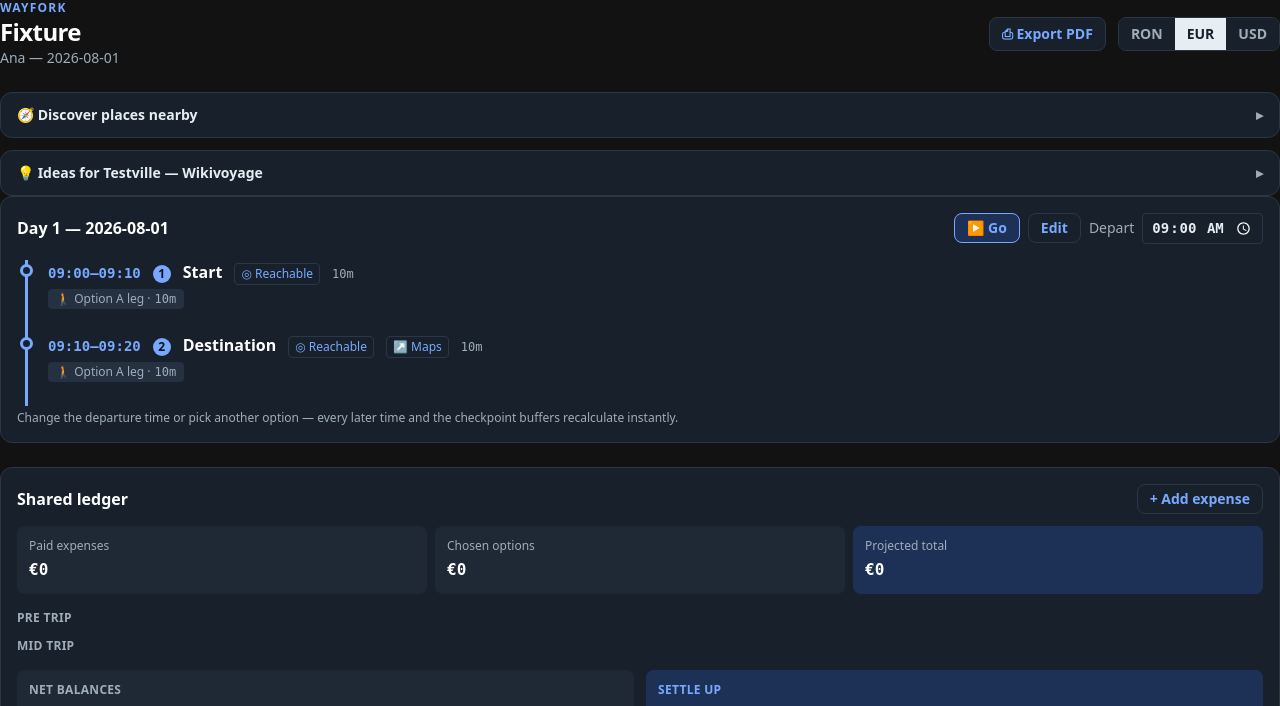
Test: TripView — 🚆 Transit option › offers a choice when there are several itineraries, each addable as an option
The image size is (1280, 706).
Step 1. Click the button "Edit" → [1054, 228], box [1028,213,1081,243]
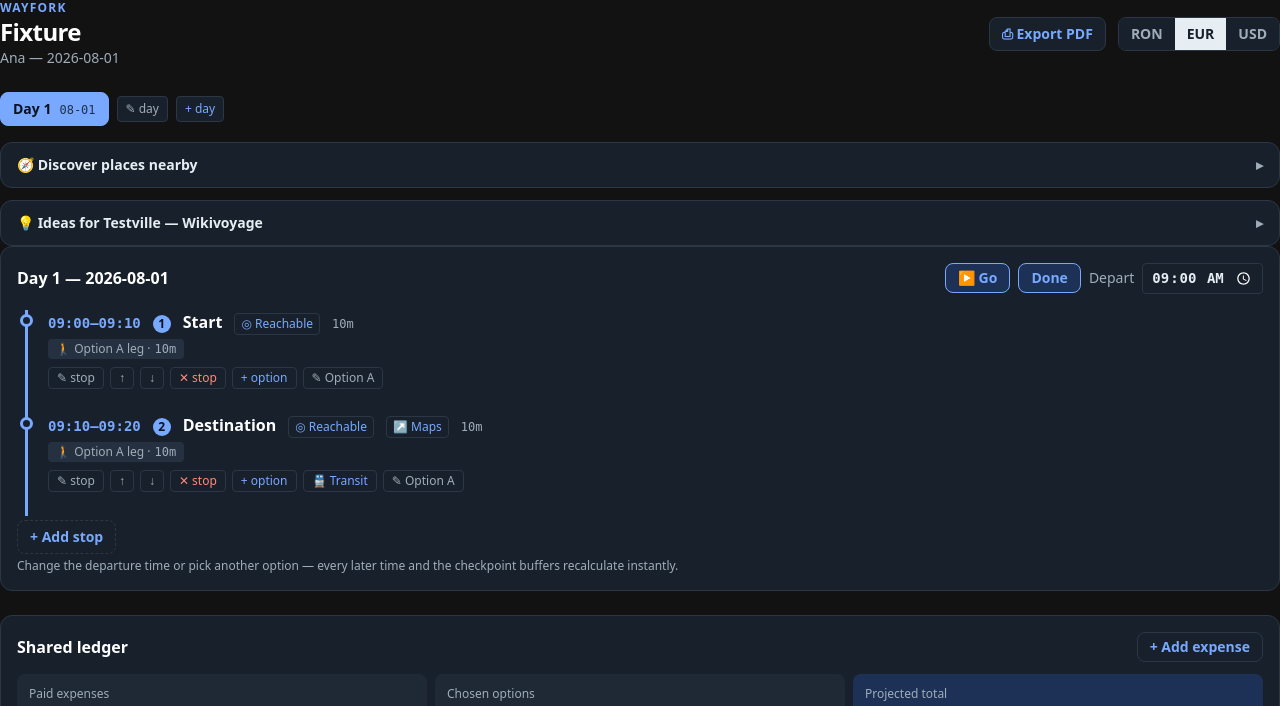
Step 2. Click the button "🚆 Transit" → [340, 481], box [302,470,377,492]
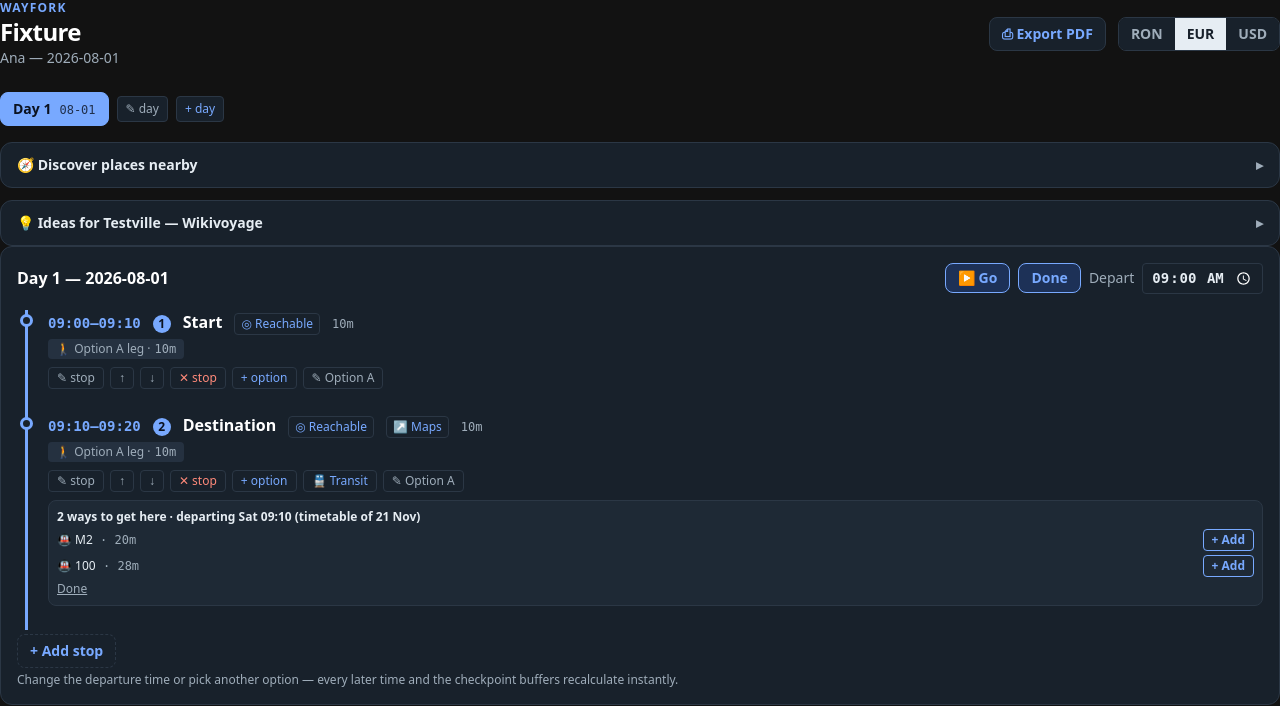
Result: the element named "Transit itineraries" shows "2 ways to get here" at [48,500,1263,606]
Result: the element named "Transit itineraries" shows "🚇 M2" at [57,531,93,548]
Step 3. Click the button "+ Add" in the row of "🚇 100" → [1228, 566], box [1202,555,1254,577]
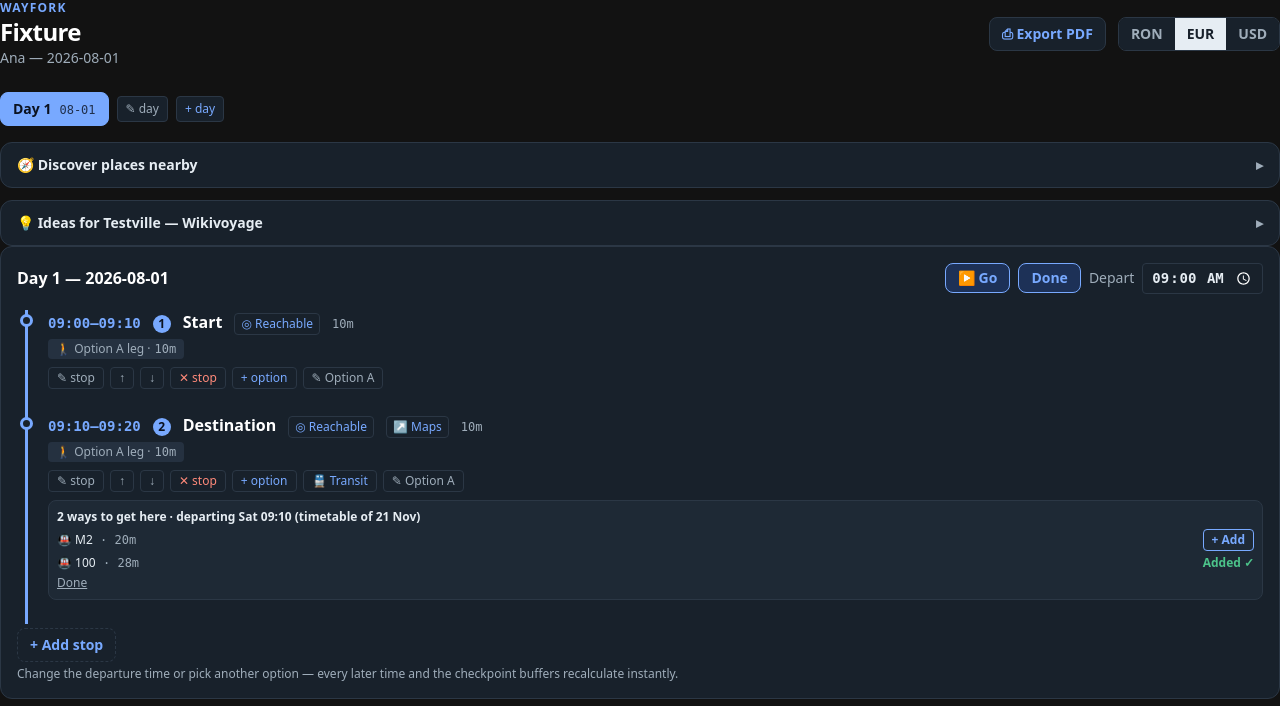
Result: the text "Added ✓" is shown at [1203,555,1254,571]
